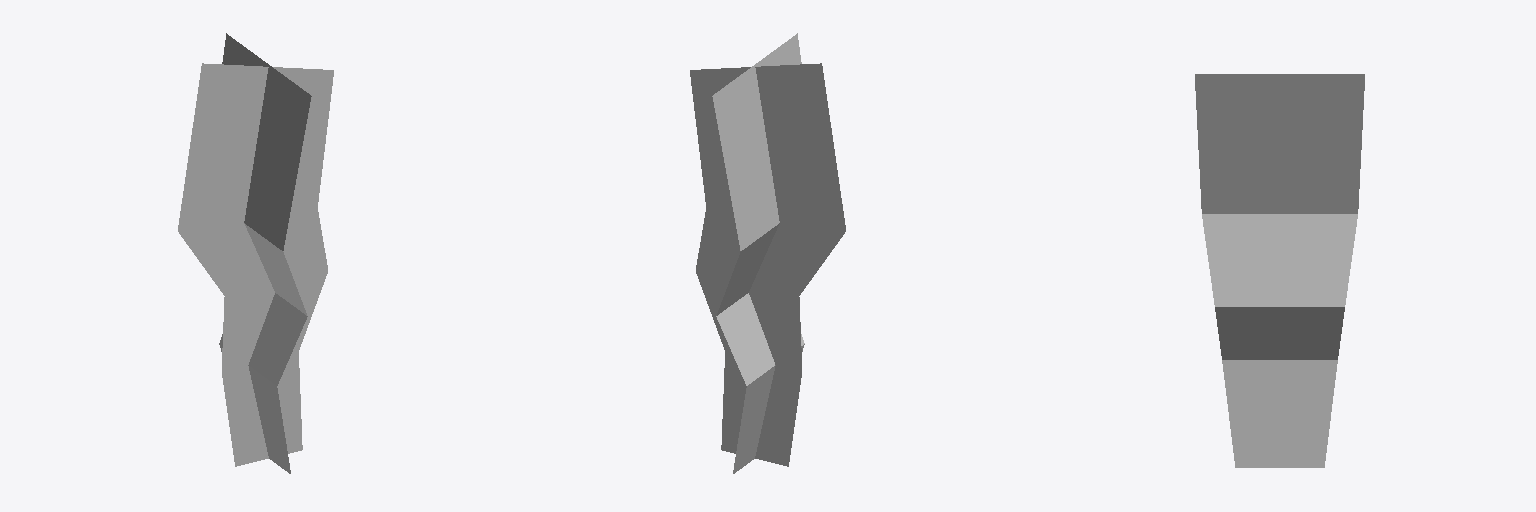
File: lightning.obj
The picture shows the model from 3 angles: view 1: azimuth 30°, elevation 25°; view 2: azimuth 150°, elevation 25°; view 3: azimuth 270°, elevation 25°; orthographic projection.
Parts seen in each view (by area): view 1: 平面.1_1; view 2: 平面.1_1; view 3: 平面.1_1.
Boxes of the visible parts, x1=… form: 平面.1_1: x1=178, y1=33, x2=333, y2=473; 平面.1_1: x1=690, y1=33, x2=845, y2=473; 平面.1_1: x1=1195, y1=74, x2=1364, y2=467.
Size of the model in its own units: 1.67 by 4.18 by 1.57.